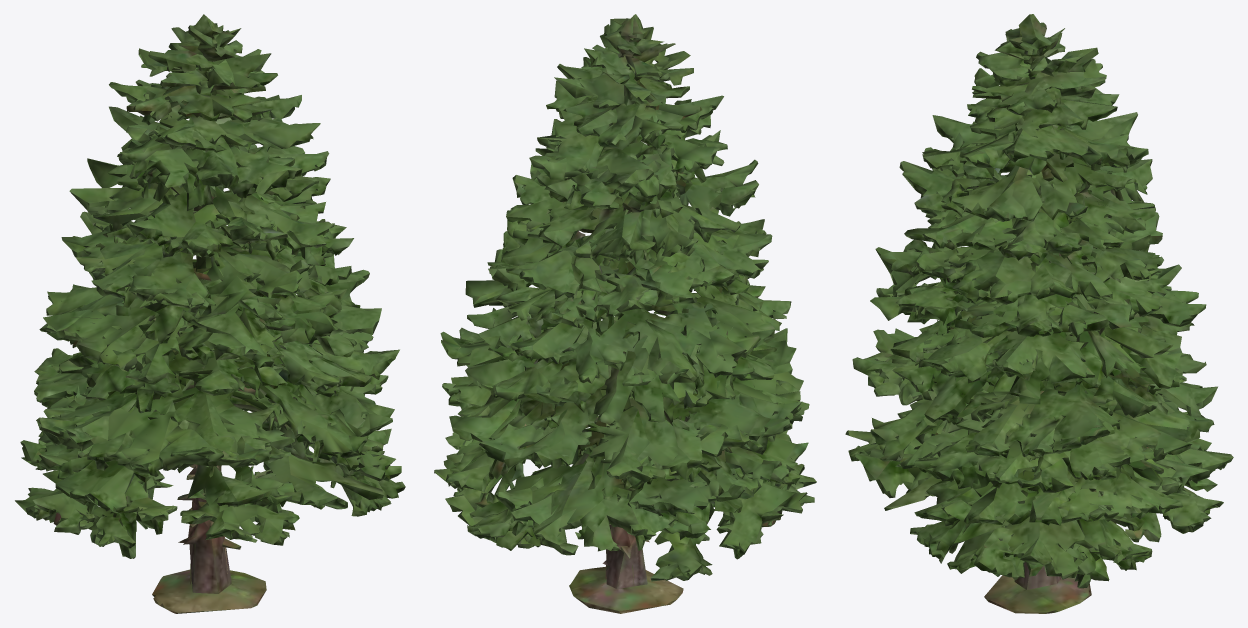
The model's file is fir-tree-lod.glb.
3 renders of one model, left to right at view 1: azimuth 30°, elevation 25°; view 2: azimuth 150°, elevation 25°; view 3: azimuth 270°, elevation 25°, orthographic.
Visible parts, largest first — view 1: geometry_0; view 2: geometry_0; view 3: geometry_0.
Boxes of the visible parts, bbox=[...] form: geometry_0: bbox=[15, 14, 405, 613]; geometry_0: bbox=[434, 14, 816, 613]; geometry_0: bbox=[845, 14, 1233, 613].
Size of the model in its own units: 16.1 by 24.93 by 15.3.
1 material, 1 textured.
